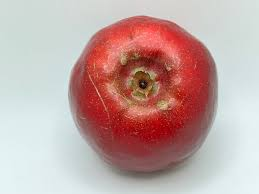apple: (72, 15, 219, 172)
